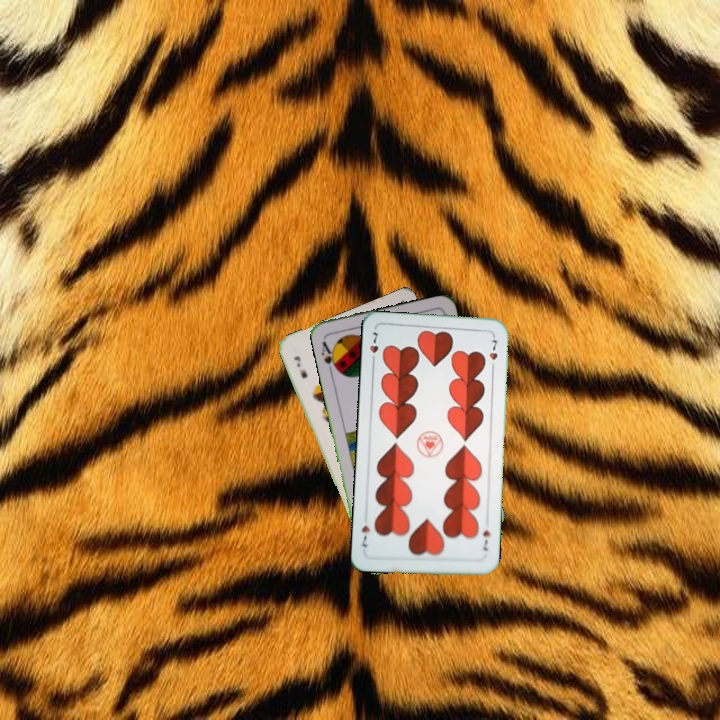E7: (290, 352, 310, 381)
H7: (366, 328, 382, 367), (479, 526, 493, 553)
SA: (317, 337, 341, 375)
